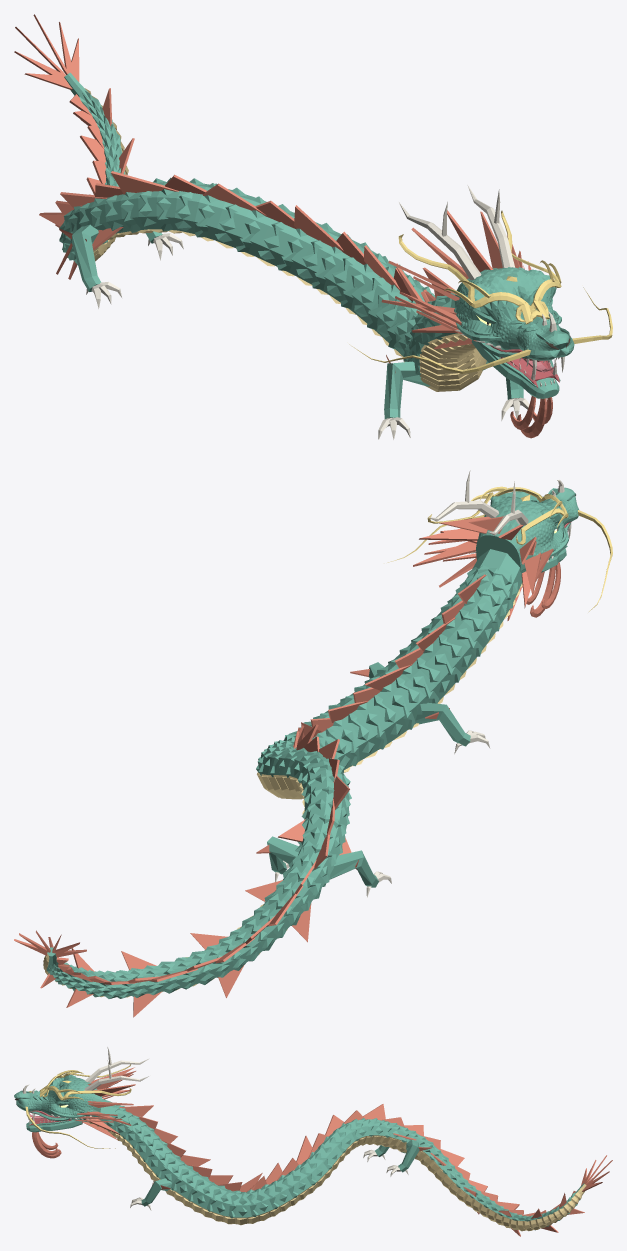
Rendered from Dragon_Long_v15.glb.
3 renders of one model, top to bottom at view 1: azimuth 30°, elevation 25°; view 2: azimuth 150°, elevation 25°; view 3: azimuth 270°, elevation 25°, orthographic. The views are drawn at different scales.
Visible parts, largest first — view 1: Body, Fins, Horns, Belly, Whiskers, Mouth; view 2: Body, Fins, Horns, Whiskers, Belly; view 3: Body, Fins, Belly, Horns, Whiskers.
Part boxes in pixels (x1,y1,x2,y2): Body: (59,72,574,418); Fins: (14,14,552,438); Horns: (86,185,564,439); Belly: (84,88,486,391); Whiskers: (349,210,612,373); Mouth: (490,345,559,387); Body: (46,487,578,998); Fins: (14,516,560,1017); Horns: (275,470,571,897); Whiskers: (387,486,612,611); Belly: (43,583,522,997); Body: (14,1075,584,1230); Fins: (32,1067,612,1236); Belly: (89,1122,586,1231); Horns: (22,1047,408,1210); Whiskers: (25,1064,131,1148).
Size of the model in its own units: 14.48 by 19.17 by 58.04.
